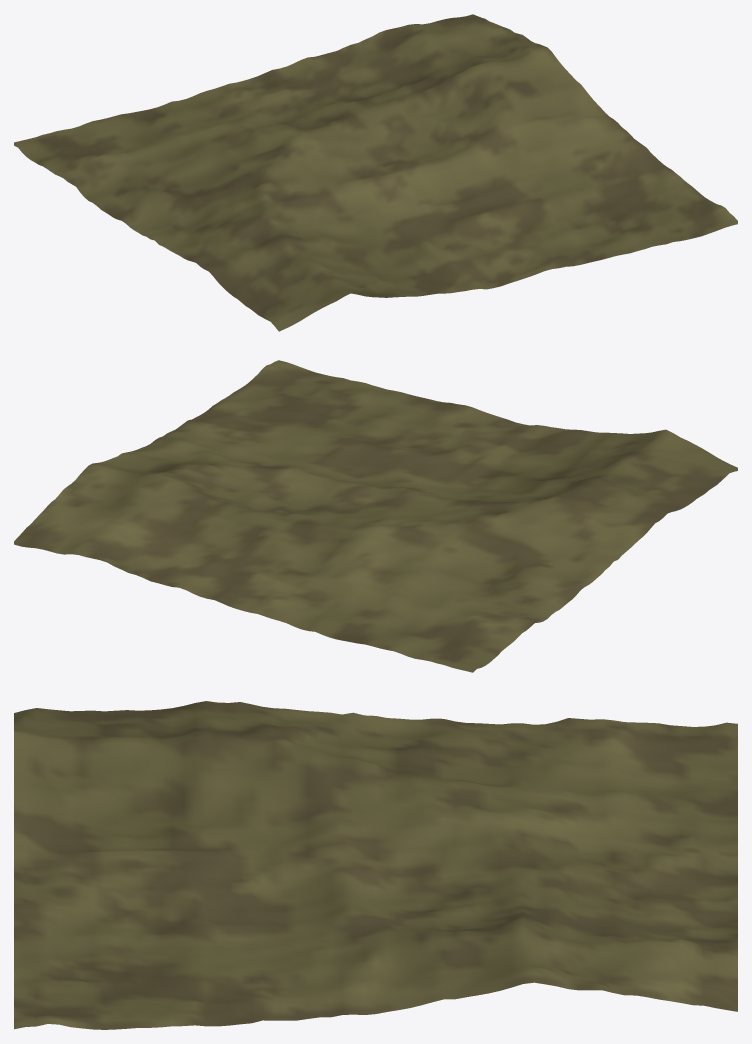
The model's file is land_f_01_03.glb.
The picture shows the model from 3 angles, top to bottom: view 1: azimuth 30°, elevation 25°; view 2: azimuth 150°, elevation 25°; view 3: azimuth 270°, elevation 25°; orthographic projection. The views are drawn at different scales.
Visible parts, largest first — view 1: land_f_01_03; view 2: land_f_01_03; view 3: land_f_01_03.
Part boxes in pixels (<box>): land_f_01_03: <box>14,14,737,331</box>; land_f_01_03: <box>14,360,737,672</box>; land_f_01_03: <box>14,701,737,1029</box>.
Size of the model in its own units: 3840 by 369 by 3840.
